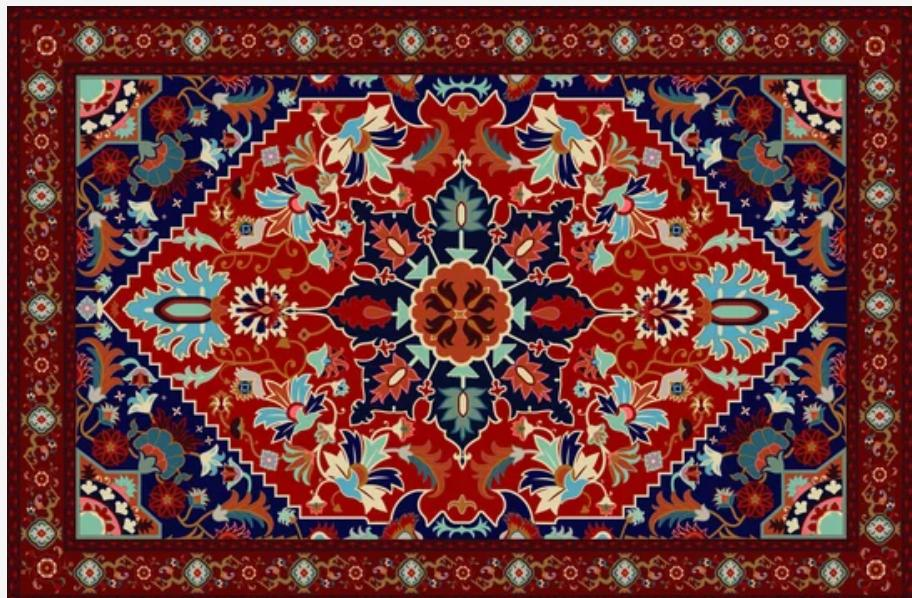carpet: (9, 9, 912, 593)
